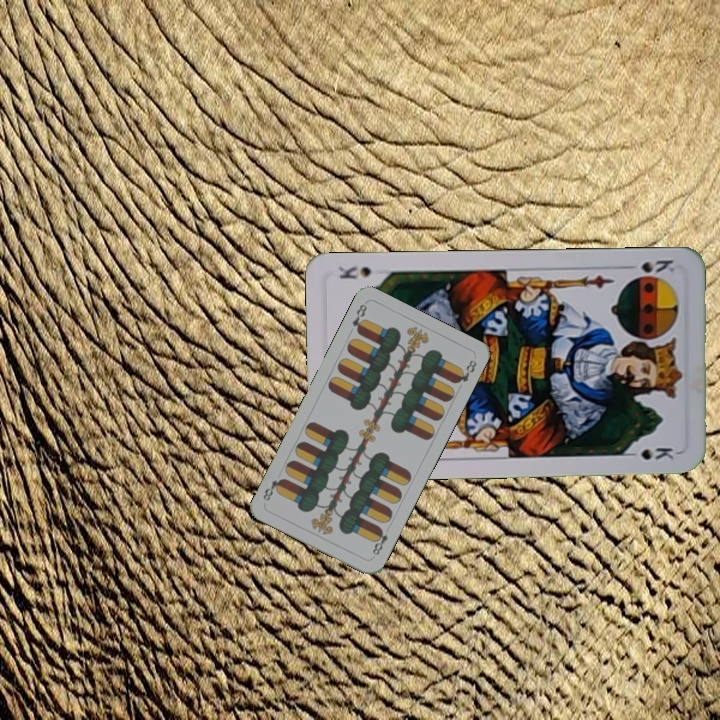E8: (348, 300, 370, 336), (368, 524, 391, 558)
SK: (627, 256, 677, 281)
